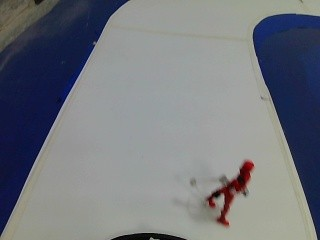pedestrian: (199, 154, 257, 230)
